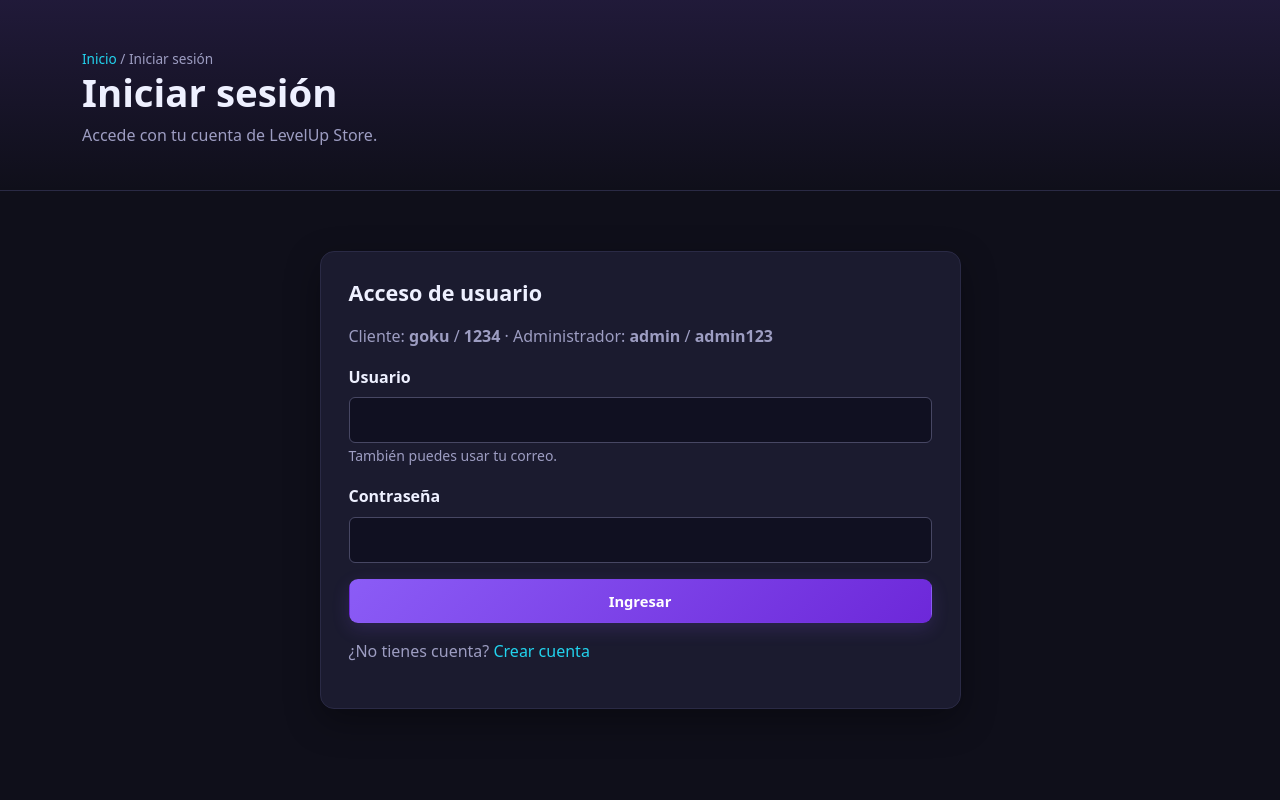
Test: Login: bloqueo por intentos fallidos › PF-41: informa los intentos restantes
Type "goku" into the field labelled "Usuario". click: coordinates (640, 420)
box: [348,397,932,443]
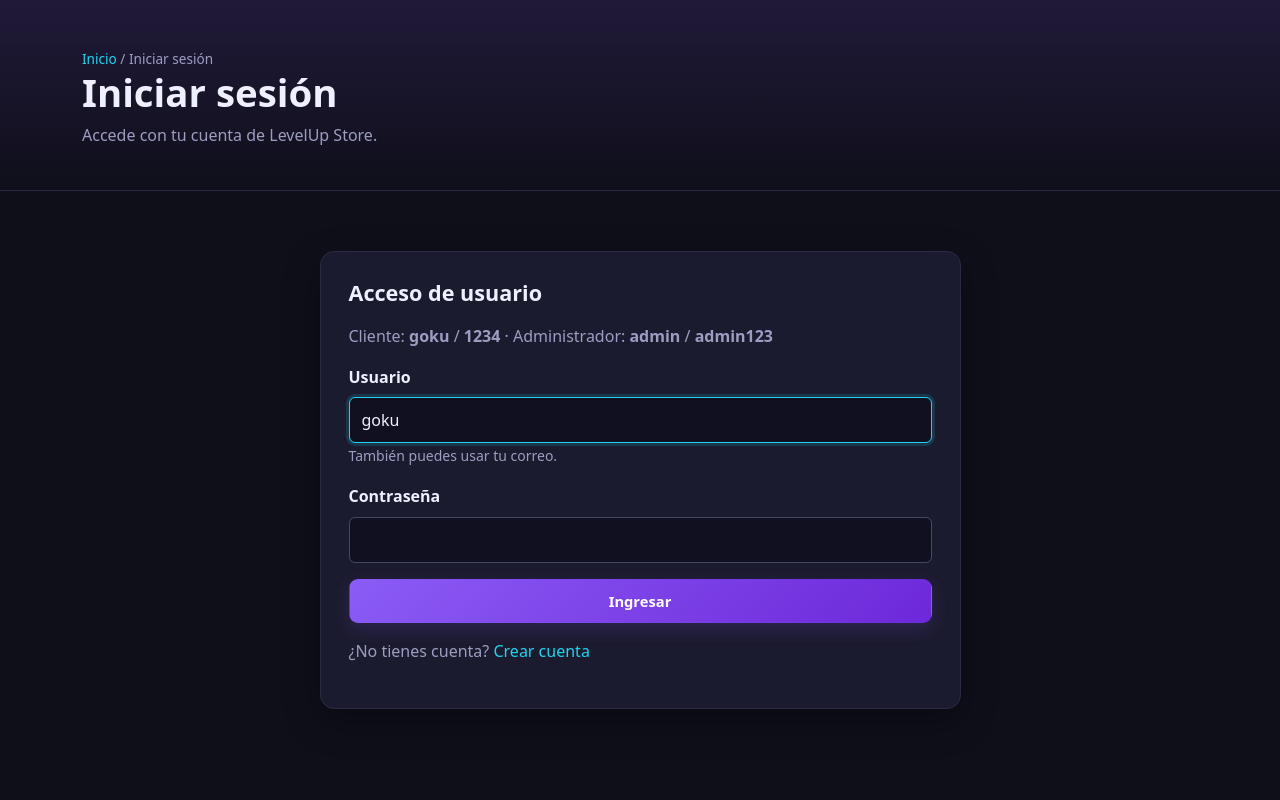
Type "mala" into the password field labelled "Contraseña". click: coordinates (640, 540)
box: [348,517,932,563]
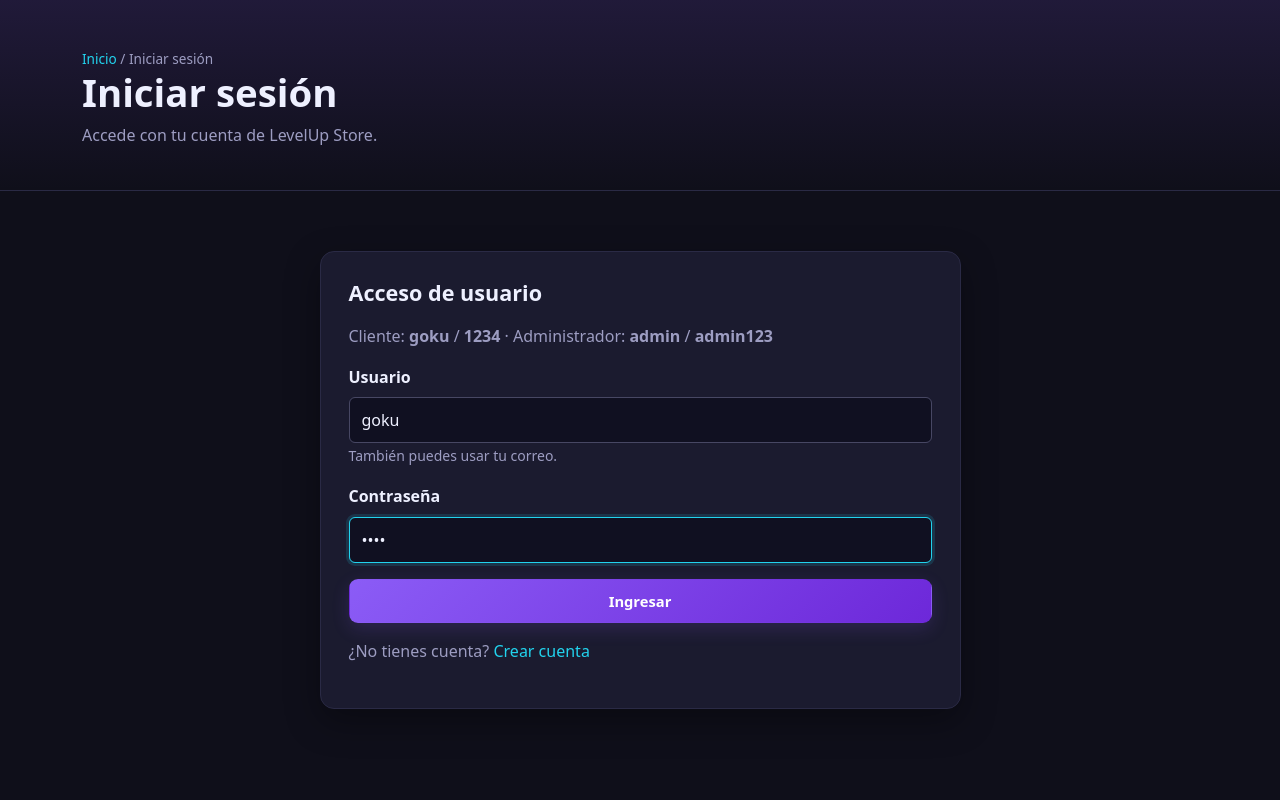
Click the button "Ingresar". click: coordinates (640, 601)
box: [348,579,932,623]
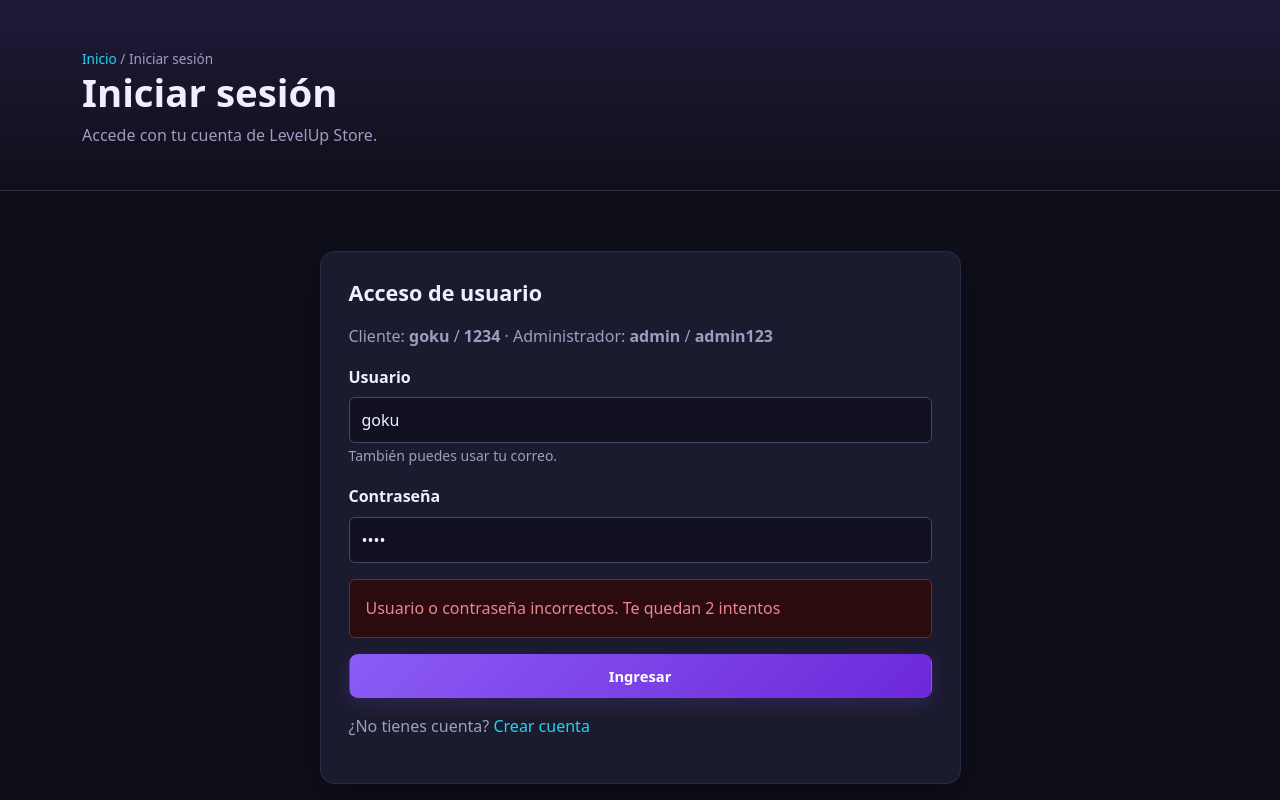
expect the text "Usuario o contraseña incorrectos. Te quedan 2 intentos" is shown: met, box [348,579,932,638]
